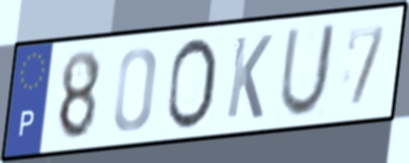0: (111, 44, 160, 134)
7: (344, 23, 386, 108)
8: (57, 48, 103, 142)
K: (223, 32, 275, 122)
O: (163, 35, 219, 134)
U: (276, 20, 339, 119)
